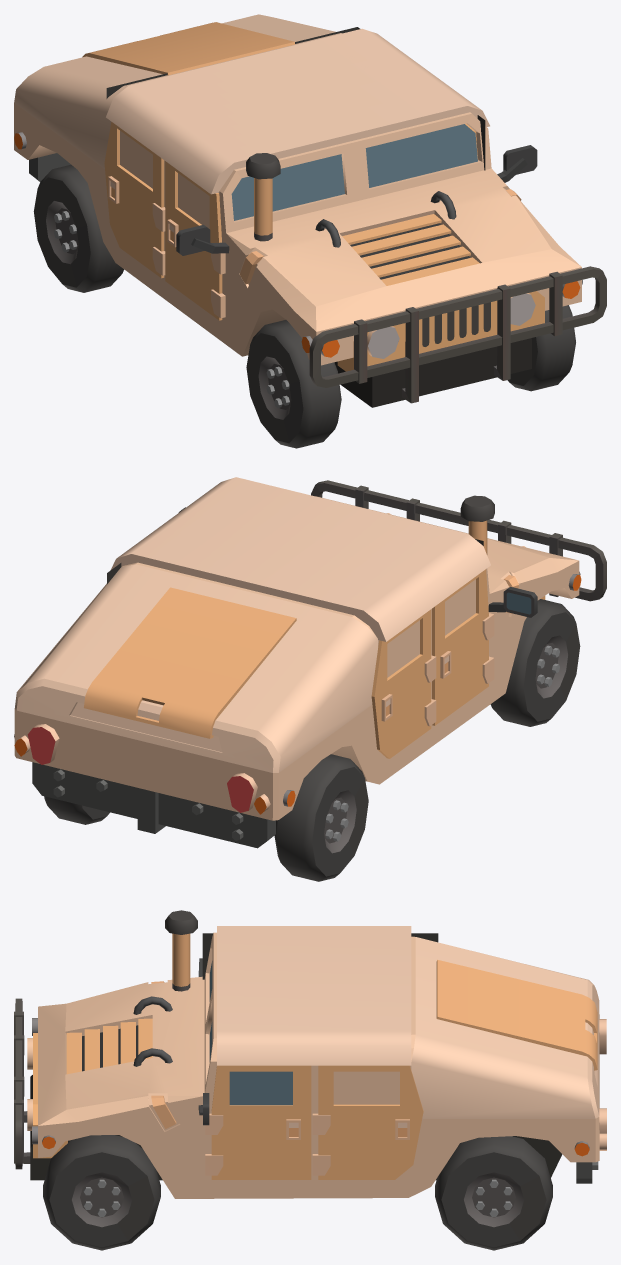
The model's file is jeep_open.glb.
The picture shows the model from 3 angles, top to bottom: view 1: azimuth 30°, elevation 25°; view 2: azimuth 150°, elevation 25°; view 3: azimuth 270°, elevation 25°; orthographic projection. The views are drawn at different scales.
Visible parts, largest first — view 1: Hummer_003, Wheel_001_R.001, Wheel_001_R, Wheel_001_L.001, JeepInterior; view 2: Hummer_003, Wheel_001_R, Wheel_001_R.001, Wheel_001_L; view 3: Hummer_003, Wheel_001_L.001, Wheel_001_L, JeepInterior.
Boxes of the visible parts, box(x1,y1,x2,y2) form: Hummer_003: box(14, 14, 606, 407); Wheel_001_R.001: box(246, 320, 341, 448); Wheel_001_R: box(33, 164, 123, 292); Wheel_001_L.001: box(507, 305, 575, 391); JeepInterior: box(106, 27, 485, 170); Hummer_003: box(14, 477, 606, 848); Wheel_001_R: box(274, 754, 368, 881); Wheel_001_R.001: box(490, 599, 580, 726); Wheel_001_L: box(44, 796, 109, 824); Hummer_003: box(14, 910, 606, 1198); Wheel_001_L.001: box(43, 1135, 160, 1250); Wheel_001_L: box(435, 1136, 552, 1250); JeepInterior: box(202, 933, 438, 979).
Size of the model in its own units: 2.79 by 1.85 by 4.35.
Materials: 2 (1 with a texture image).
